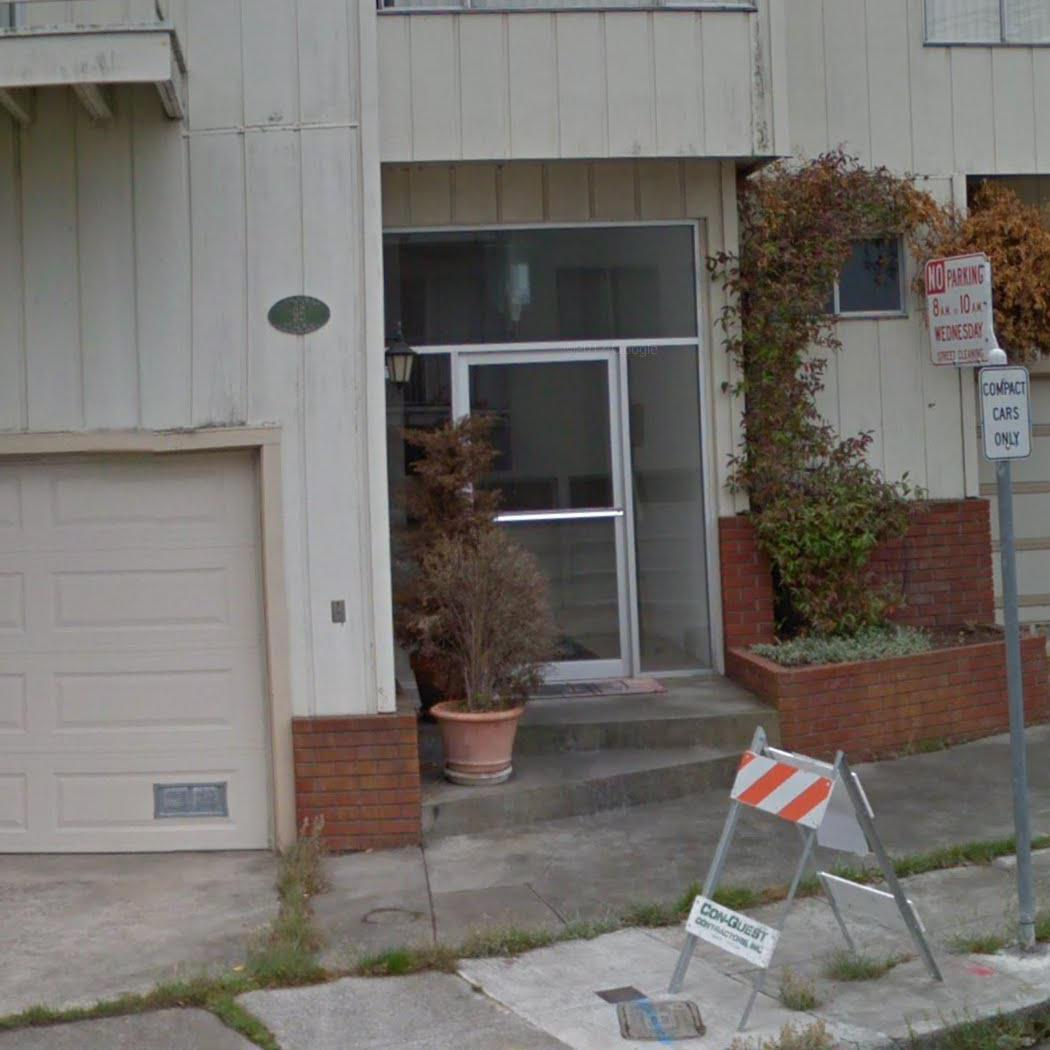No Parking: (914, 252, 1000, 374)
